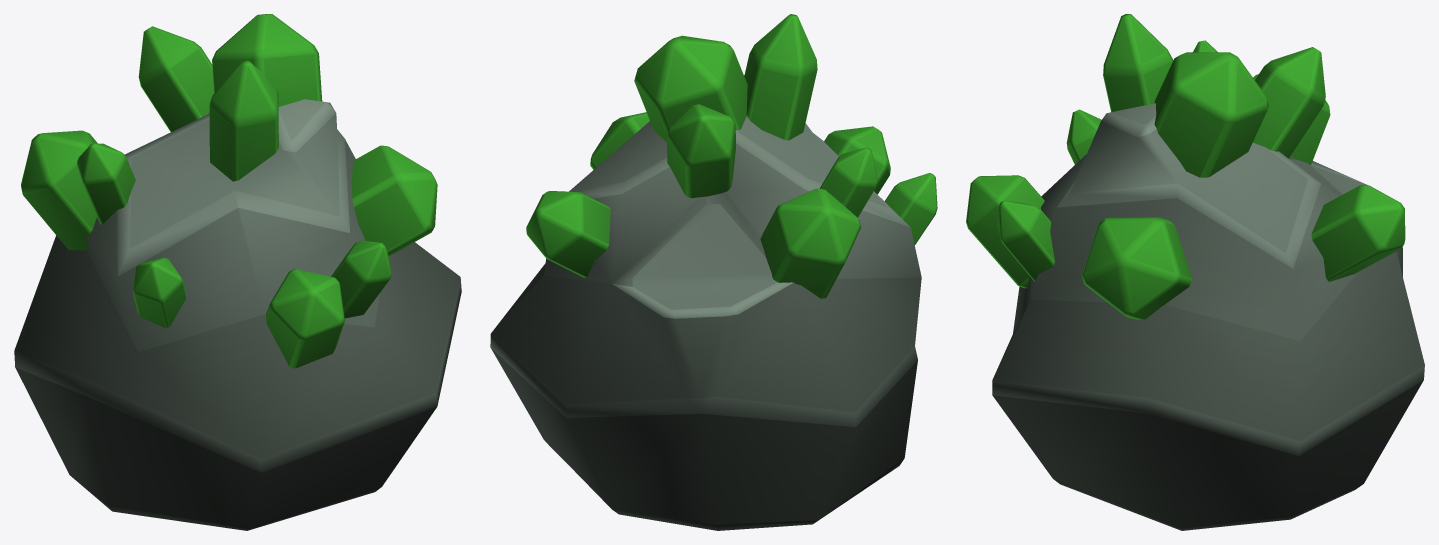
3 views of the same model, side by side, from view 1: azimuth 30°, elevation 25°; view 2: azimuth 150°, elevation 25°; view 3: azimuth 270°, elevation 25° (orthographic). The views are drawn at different scales.
Parts seen in each view (by area): view 1: ore_christal_saphire_L_cube_mat_0.004; view 2: ore_christal_saphire_L_cube_mat_0.004; view 3: ore_christal_saphire_L_cube_mat_0.004.
Part boxes in pixels (bbox=[...]): ore_christal_saphire_L_cube_mat_0.004: bbox=[14, 14, 461, 530]; ore_christal_saphire_L_cube_mat_0.004: bbox=[490, 14, 937, 530]; ore_christal_saphire_L_cube_mat_0.004: bbox=[966, 14, 1424, 530].
Bounding box in the file's own units: 186 × 234 × 199.
1 material, 1 textured.
